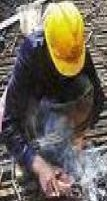gloves: (98, 39, 107, 67)
hard-hat: (43, 1, 85, 77)
